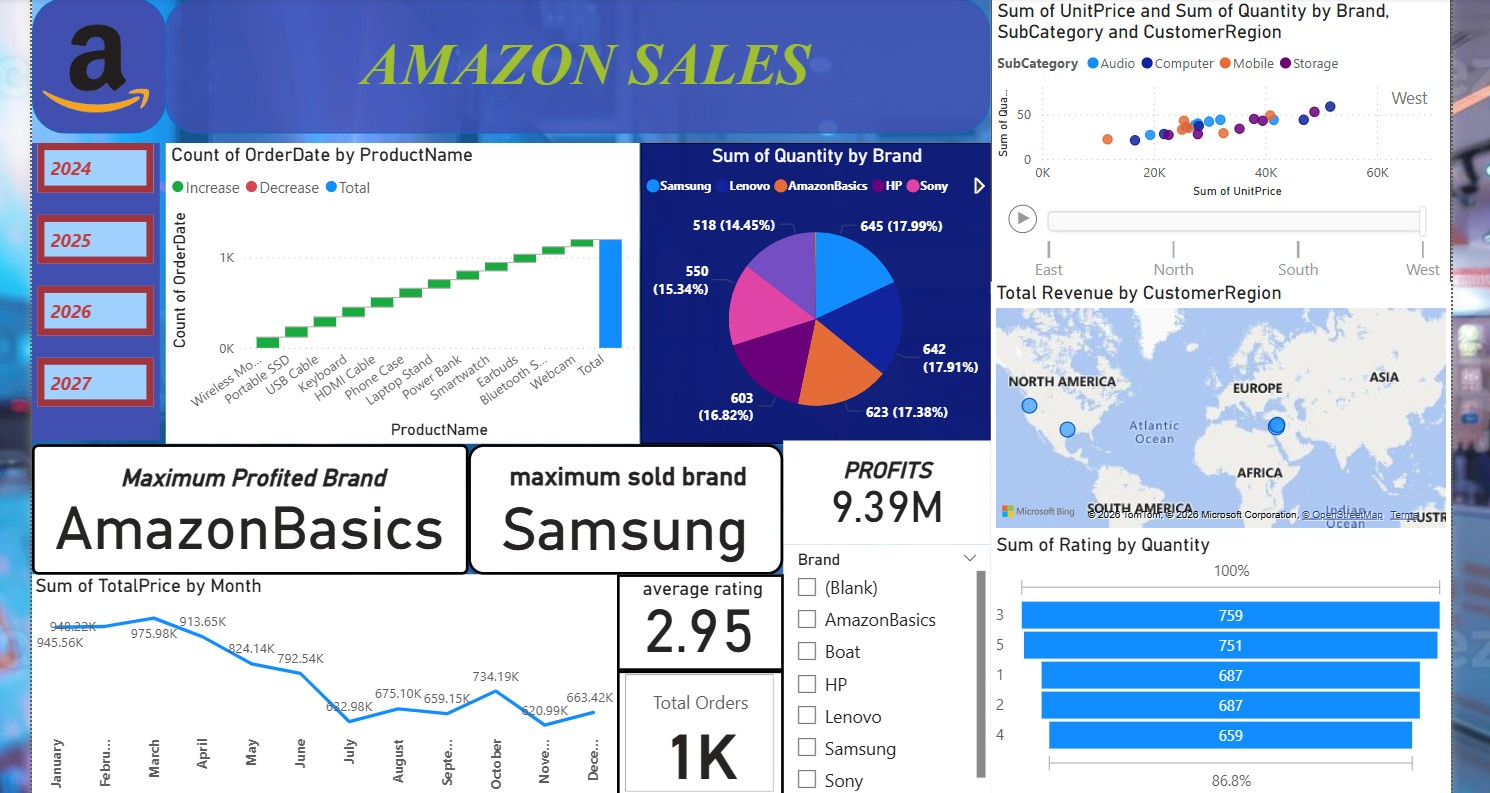

The page's visual inventory and layout, read from the dashboard file:
{"tool":"powerbi","page":{"name":"Dashboard","canvas":[1280,720],"ordinal":0},"visuals":[{"type":"shape","box":[0,0,121.1,122.3],"z":0},{"type":"image","box":[0,19.6,114.9,89.3],"z":1000},{"type":"shape","box":[119.8,0,744.7,122.3],"z":2000},{"type":"textbox","box":[154.1,11,689.7,97.8],"z":3000},{"type":"multiRowCard","fields":{"Values":["Amazon Sales.OrderDate.Variation.Date Hierarchy.Year"]},"box":[0,130.8,114.9,267.8],"z":4000},{"type":"lineChart","fields":{"Category":["Amazon Sales.OrderDate.Variation.Date Hierarchy.Month"],"Y":["Sum(Amazon Sales.TotalPrice)"]},"box":[0,520,528.8,200],"z":5000},{"type":"funnel","fields":{"Y":["Sum(Amazon Sales.Rating)"],"Category":["Amazon Sales.Quantity"]},"box":[865,482.5,415,237.5],"z":6000},{"type":"pieChart","fields":{"Y":["Sum(Amazon Sales.Quantity)"],"Category":["Amazon Sales.Brand"]},"box":[548.8,131.2,316.2,271.2],"z":7000},{"type":"slicer","fields":{"Values":["Amazon Sales.Brand"]},"box":[677.5,492.5,187.5,227.5],"z":8000},{"type":"card","title":"PROFITS","fields":{"Values":["Sum(Amazon Sales.TotalPrice)"]},"box":[677.5,398.8,187.5,93.8],"z":9000},{"type":"scatterChart","fields":{"Y":["Sum(Amazon Sales.Quantity)"],"Play":["Amazon Sales.CustomerRegion"],"X":["Sum(Amazon Sales.UnitPrice)"],"Series":["Amazon Sales.SubCategory"],"Category":["Amazon Sales.Brand"]},"box":[865,0,415,266.2],"z":10000},{"type":"card","title":"Maximum Profited Brand","fields":{"Values":["Amazon Sales.Max Brand"]},"box":[0,402.5,393.8,117.5],"z":11000},{"type":"waterfallChart","fields":{"Y":["CountNonNull(Amazon Sales.OrderDate)"],"Category":["Amazon Sales.ProductName"]},"box":[121.1,130.8,427,271.5],"z":12000},{"type":"card","title":"maximum sold brand","fields":{"Values":["Amazon Sales.max sold product"]},"box":[393.8,402.5,283.8,117.5],"z":13000},{"type":"cardVisual","fields":{"Data":["Amazon Sales.Total Orders"]},"box":[527.5,606.2,150,113.8],"z":14000},{"type":"map","fields":{"Category":["Amazon Sales.CustomerRegion"],"Size":["Amazon Sales.Total Revenue"]},"box":[865,256.2,415,226.2],"z":15000},{"type":"card","title":"average rating","fields":{"Values":["Amazon Sales.avg rating"]},"box":[527.5,520,150,87.5],"z":16000}]}

Visuals, with their boxes in screenshot pixels (x1, y1, x2, y2):
shape: {"x1": 47, "y1": 8, "x2": 178, "y2": 140}
image: {"x1": 47, "y1": 29, "x2": 171, "y2": 126}
shape: {"x1": 176, "y1": 8, "x2": 984, "y2": 140}
textbox: {"x1": 214, "y1": 20, "x2": 961, "y2": 126}
multiRowCard - Amazon Sales.OrderDate.Variation.Date Hierarchy.Year: {"x1": 47, "y1": 150, "x2": 171, "y2": 440}
lineChart - Amazon Sales.OrderDate.Variation.Date Hierarchy.Month x Sum(Amazon Sales.TotalPrice): {"x1": 47, "y1": 572, "x2": 620, "y2": 788}
funnel - Sum(Amazon Sales.Rating) x Amazon Sales.Quantity: {"x1": 984, "y1": 531, "x2": 1434, "y2": 788}
pieChart - Sum(Amazon Sales.Quantity) x Amazon Sales.Brand: {"x1": 642, "y1": 150, "x2": 984, "y2": 444}
slicer - Amazon Sales.Brand: {"x1": 781, "y1": 542, "x2": 984, "y2": 788}
"PROFITS" card: {"x1": 781, "y1": 440, "x2": 984, "y2": 542}
scatterChart - Sum(Amazon Sales.Quantity) x Amazon Sales.CustomerRegion: {"x1": 984, "y1": 8, "x2": 1434, "y2": 296}
"Maximum Profited Brand" card: {"x1": 47, "y1": 444, "x2": 474, "y2": 572}
waterfallChart - CountNonNull(Amazon Sales.OrderDate) x Amazon Sales.ProductName: {"x1": 178, "y1": 150, "x2": 641, "y2": 444}
"maximum sold brand" card: {"x1": 474, "y1": 444, "x2": 781, "y2": 572}
cardVisual - Amazon Sales.Total Orders: {"x1": 618, "y1": 665, "x2": 781, "y2": 788}
map - Amazon Sales.CustomerRegion x Amazon Sales.Total Revenue: {"x1": 984, "y1": 286, "x2": 1434, "y2": 531}
"average rating" card: {"x1": 618, "y1": 572, "x2": 781, "y2": 666}
